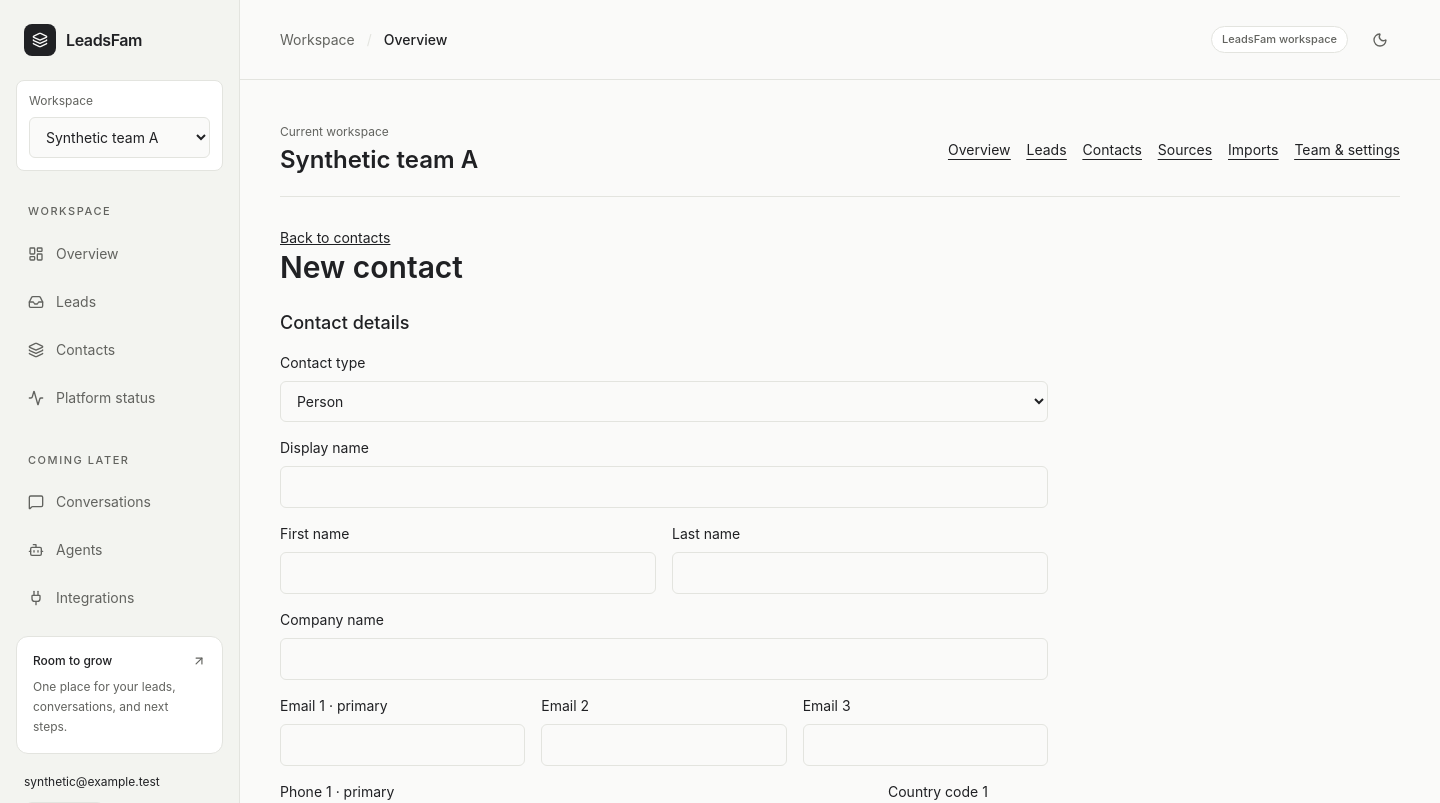
Test: scoped drafts and CRM navigation › requires explicit discard before sign-out takes effect
In the field labelled "Display name": (664, 487) [280,466,1048,508], type "Sign out draft"
(page scrolled)
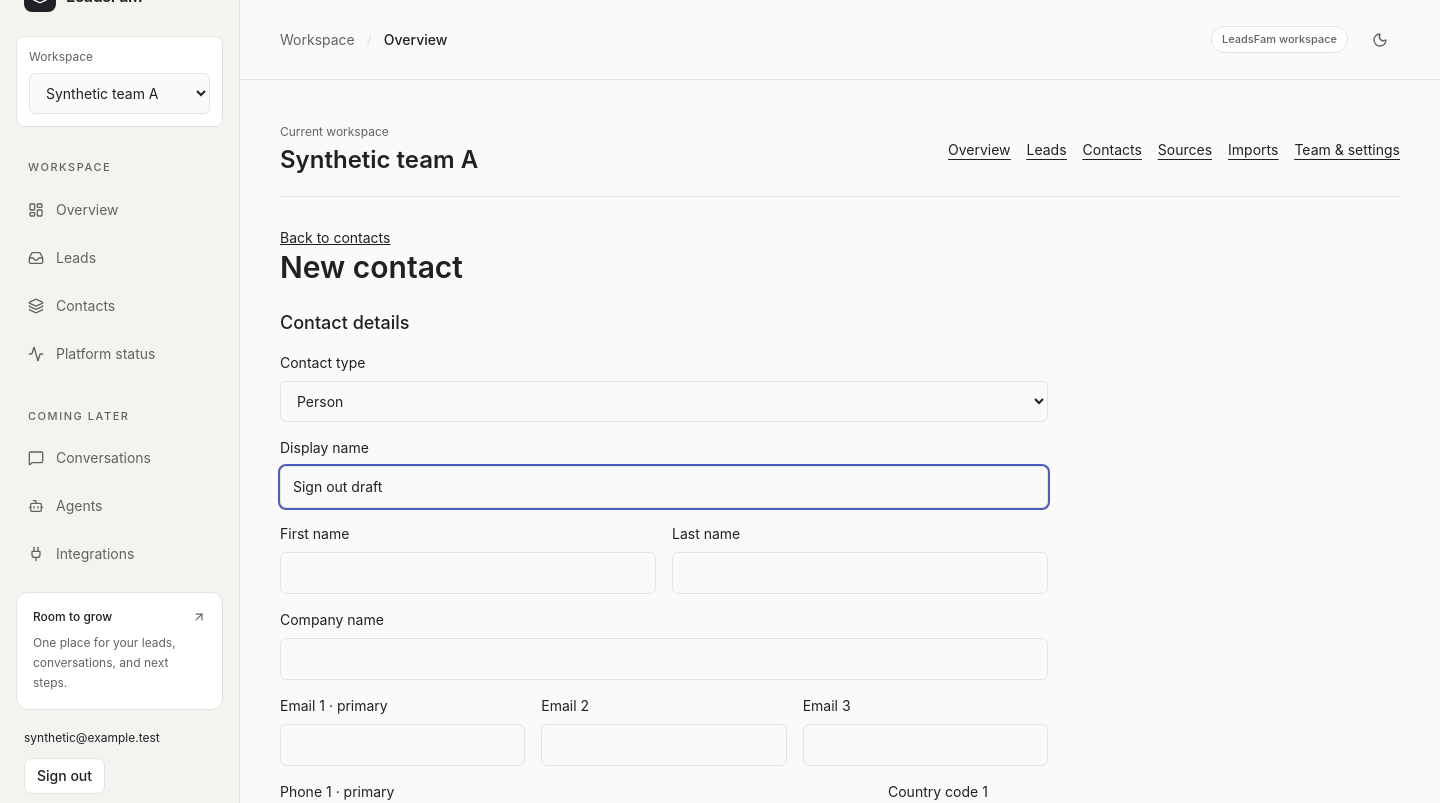
Click the button "Sign out": (64, 776) [24,758,105,794]
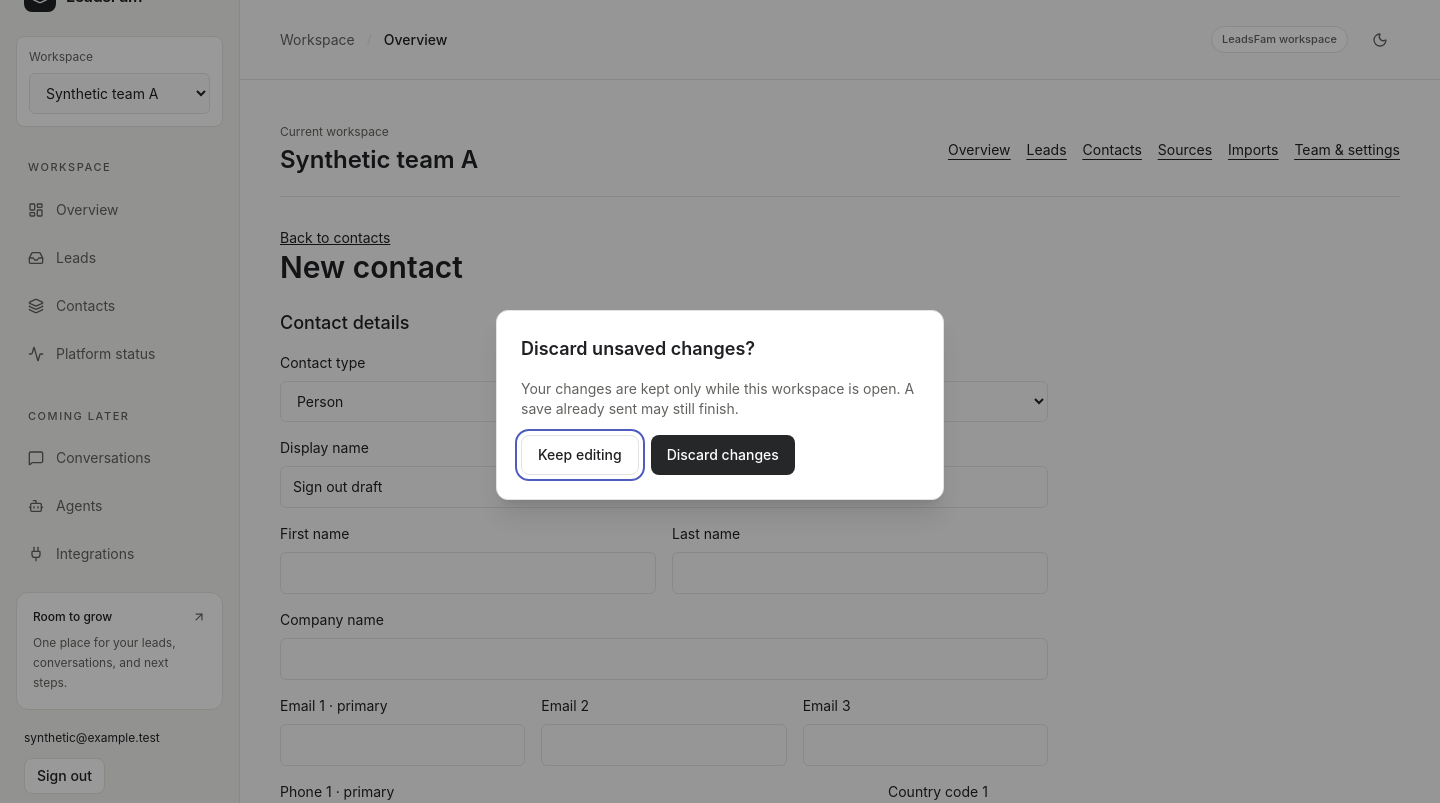
Click the button "Keep editing": (580, 455) [521,435,639,475]
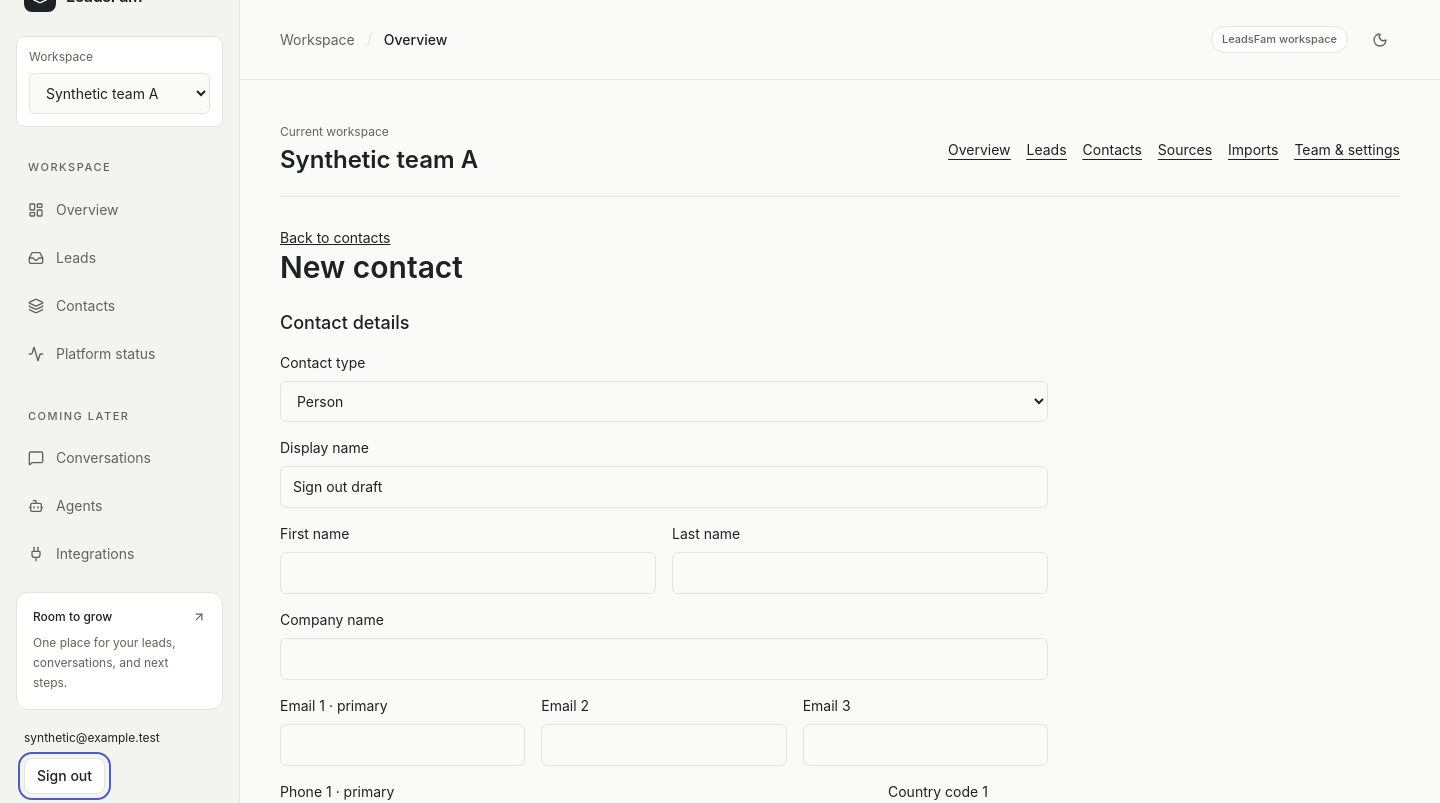
Check: the field labelled "Display name" is enabled, box [280,466,1048,508]
Click the button "Sign out": (64, 776) [24,758,105,794]
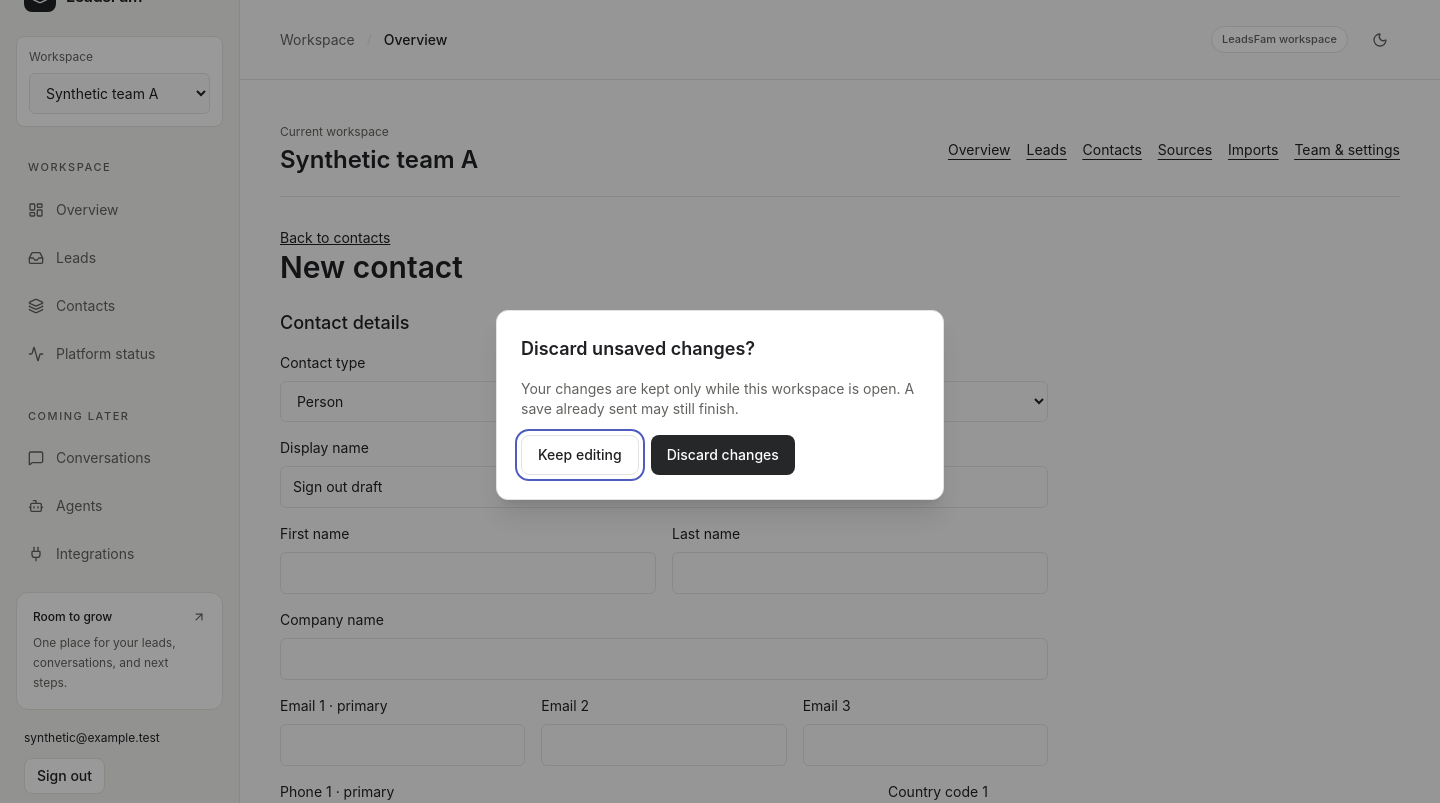
Click the button "Discard changes": (723, 455) [651,435,795,475]
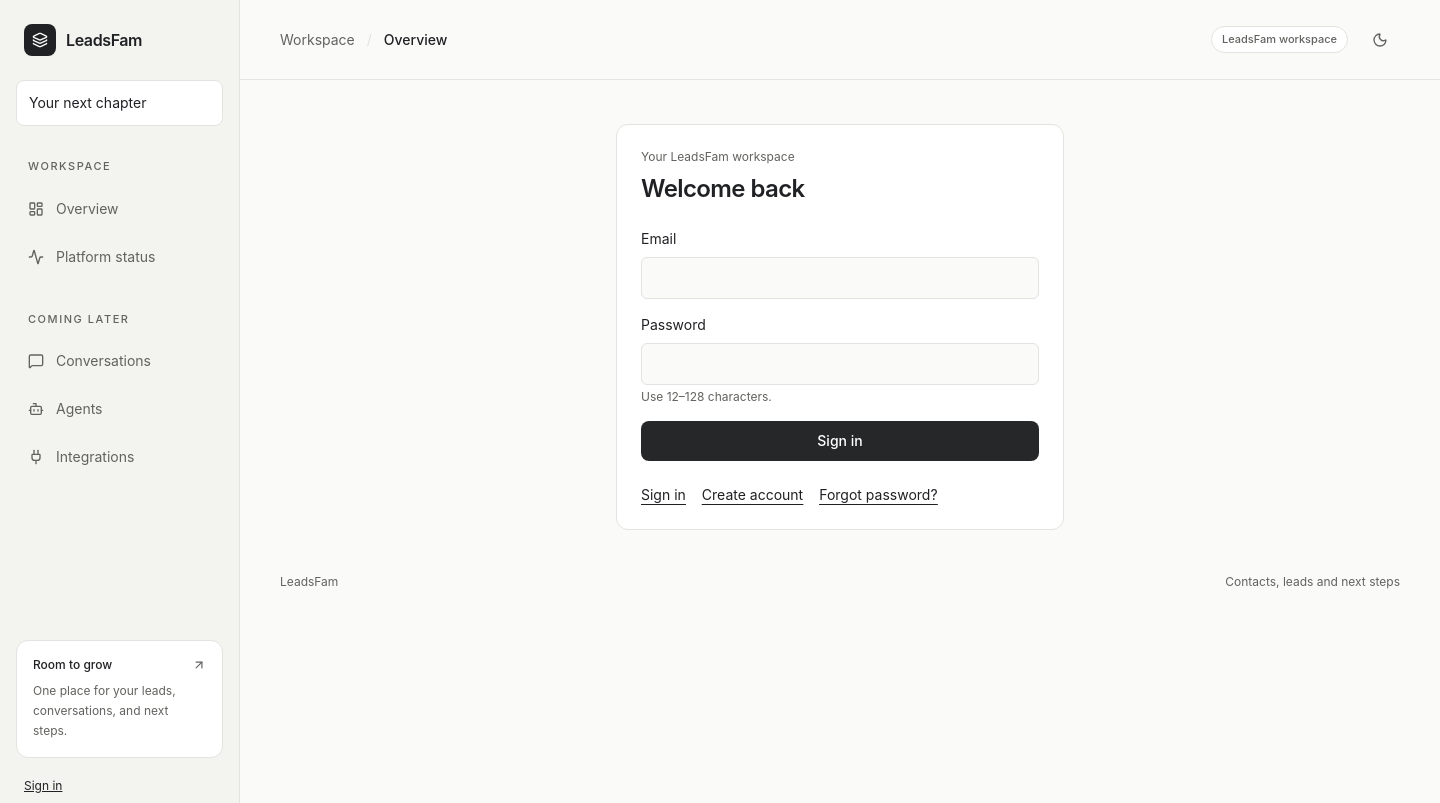
Check: the heading "Welcome back" is shown, box [641,174,805,203]
